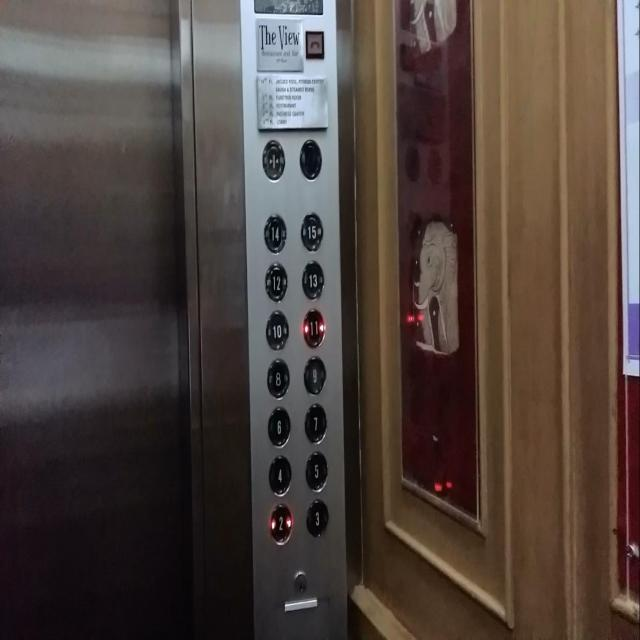10: (265, 309, 289, 350)
11: (302, 306, 324, 347)
12: (264, 261, 288, 302)
13: (302, 260, 324, 299)
14: (264, 214, 287, 254)
15: (300, 212, 323, 252)
2: (268, 500, 294, 546)
3: (304, 498, 329, 539)
4: (267, 453, 291, 496)
5: (305, 450, 329, 492)
6: (266, 404, 290, 448)
7: (304, 402, 327, 443)
8: (266, 356, 290, 399)
9: (302, 354, 327, 396)
call: (305, 30, 324, 59)
close: (261, 139, 285, 181)
empty: (299, 138, 322, 180)
keyhole: (291, 568, 308, 598)
